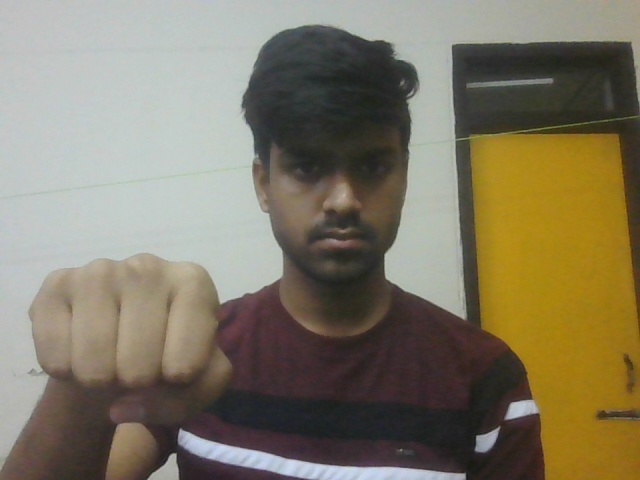yes: (15, 243, 255, 458)
